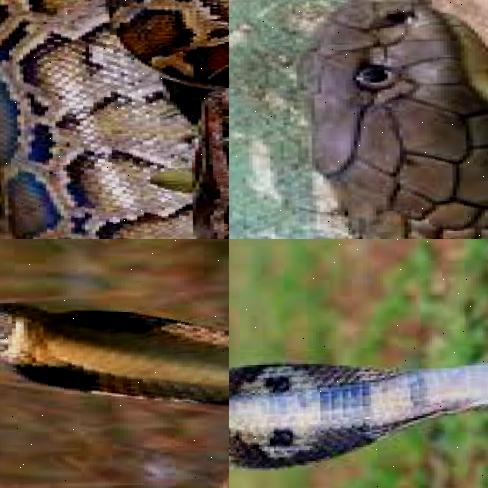snake: (242, 0, 488, 239), (0, 0, 229, 239), (0, 268, 229, 488), (229, 296, 488, 480)
